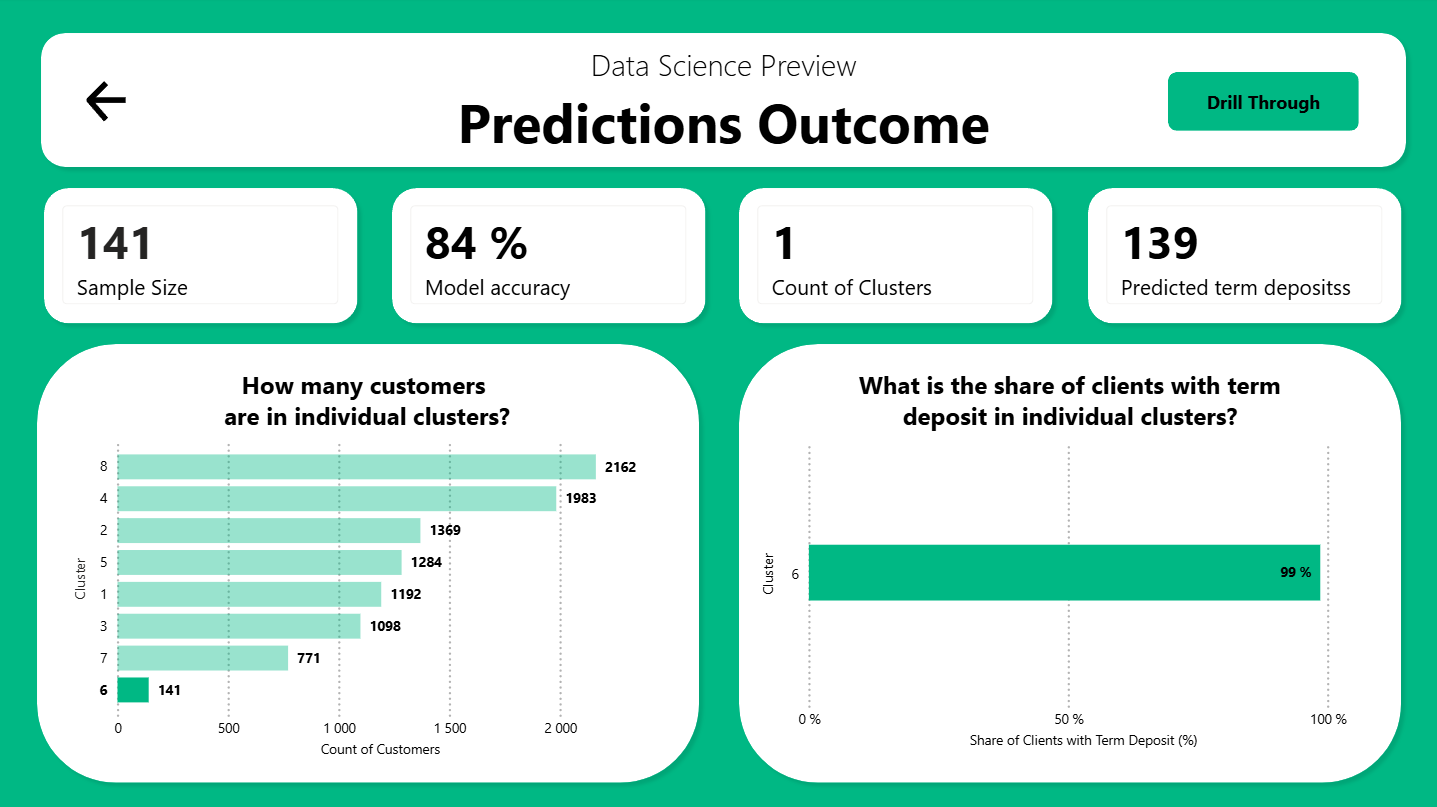

What the dashboard file says about the page in this screenshot:
{"tool":"powerbi","page":{"name":"Cluster Drill","canvas":[1280,720],"ordinal":3},"visuals":[{"type":"shape","box":[0,0,1280,720],"z":0},{"type":"shape","box":[30,3.6,1226.4,134.5],"z":1000},{"type":"shape","box":[962,276,294,444],"z":2000},{"type":"shape","box":[489,278,453,442],"z":3000},{"type":"actionButton","box":[85.1,48.1,46,45],"z":4000},{"type":"cardVisual","fields":{"Data":["Max(results.Cluster)"]},"box":[583.6,41.8,120,85.5],"z":5000},{"type":"textbox","box":[44.5,15.5,1207.3,51.8],"z":6000},{"type":"shape","box":[28,278,453,442],"z":7000},{"type":"shape","box":[29,140.8,294.5,135.5],"z":8000},{"type":"shape","box":[960.8,139.9,294.5,135.5],"z":9000},{"type":"shape","box":[338.7,140.5,294.7,135.8],"z":10000},{"type":"shape","box":[646.1,140.5,294.7,135.8],"z":11000},{"type":"cardVisual","fields":{"Data":["CountNonNull(bank_cluster.cluster)"]},"box":[36,146,279,122],"z":12000},{"type":"cardVisual","fields":{"Data":["Median(results.conversion_rate)"]},"box":[653,146,279,122],"z":13000},{"type":"cardVisual","fields":{"Data":["Median(results.n_customers)"]},"box":[969,146,279,122],"z":14000},{"type":"cardVisual","fields":{"Data":["Median(results.y_ratio)"]},"box":[347,146,278,122],"z":15000},{"type":"barChart","fields":{"Category":["bank_cluster.marital"],"Y":["CountNonNull(bank_cluster.marital)"]},"box":[56,530,393,155],"z":16000},{"type":"barChart","fields":{"Category":["bank_cluster.job"],"Y":["CountNonNull(bank_cluster.job)"]},"box":[45,375,404,154],"z":17000},{"type":"donutChart","fields":{"Y":["CountNonNull(bank_cluster.age)"],"Category":["bank_cluster.age_range"]},"box":[515,338,408,367],"z":18000},{"type":"donutChart","fields":{"Category":["bank_cluster.housing"],"Y":["CountNonNull(bank_cluster.housing)"]},"box":[985,388,265,171],"z":19000},{"type":"donutChart","fields":{"Category":["bank_cluster.loan"],"Y":["CountNonNull(bank_cluster.loan)"]},"box":[988,542,245,171],"z":20000},{"type":"textbox","box":[963,295,287,119],"z":21000},{"type":"textbox","box":[37,297,434,71],"z":22000},{"type":"textbox","box":[497,296,435,73],"z":23000}]}

Visuals, with their boxes in screenshot pixels (x1, y1, x2, y2), scaled from the page's 1280x720 canvas onto the 1437x807 screenshot:
shape: x1=0, y1=0, x2=1436, y2=806
shape: x1=34, y1=4, x2=1411, y2=155
shape: x1=1080, y1=309, x2=1410, y2=806
shape: x1=549, y1=312, x2=1058, y2=806
actionButton: x1=96, y1=54, x2=147, y2=104
cardVisual - Max(results.Cluster): x1=655, y1=47, x2=790, y2=143
textbox: x1=50, y1=17, x2=1405, y2=75
shape: x1=31, y1=312, x2=540, y2=806
shape: x1=33, y1=158, x2=363, y2=310
shape: x1=1079, y1=157, x2=1409, y2=309
shape: x1=380, y1=157, x2=711, y2=310
shape: x1=725, y1=157, x2=1056, y2=310
cardVisual - CountNonNull(bank_cluster.cluster): x1=40, y1=164, x2=354, y2=300
cardVisual - Median(results.conversion_rate): x1=733, y1=164, x2=1046, y2=300
cardVisual - Median(results.n_customers): x1=1088, y1=164, x2=1401, y2=300
cardVisual - Median(results.y_ratio): x1=390, y1=164, x2=702, y2=300
barChart - bank_cluster.marital x CountNonNull(bank_cluster.marital): x1=63, y1=594, x2=504, y2=768
barChart - bank_cluster.job x CountNonNull(bank_cluster.job): x1=51, y1=420, x2=504, y2=593
donutChart - CountNonNull(bank_cluster.age) x bank_cluster.age_range: x1=578, y1=379, x2=1036, y2=790
donutChart - bank_cluster.housing x CountNonNull(bank_cluster.housing): x1=1106, y1=435, x2=1403, y2=627
donutChart - bank_cluster.loan x CountNonNull(bank_cluster.loan): x1=1109, y1=607, x2=1384, y2=799
textbox: x1=1081, y1=331, x2=1403, y2=464
textbox: x1=42, y1=333, x2=529, y2=412
textbox: x1=558, y1=332, x2=1046, y2=414
